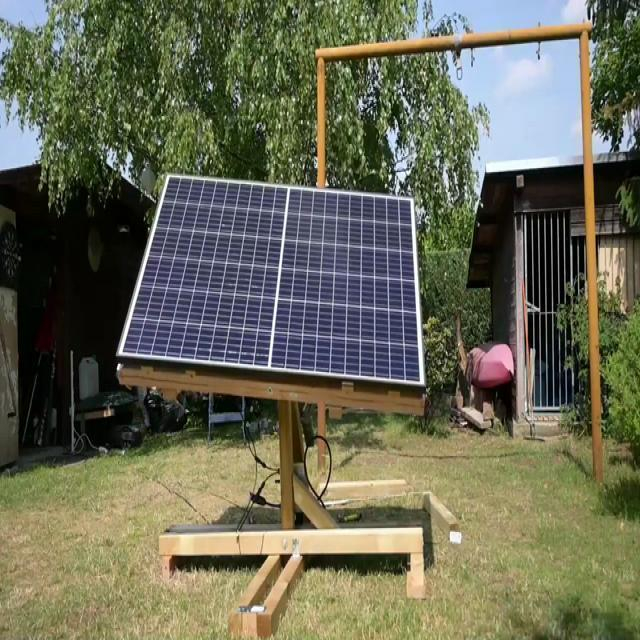Normal Solar Panel: (121, 176, 424, 387)
